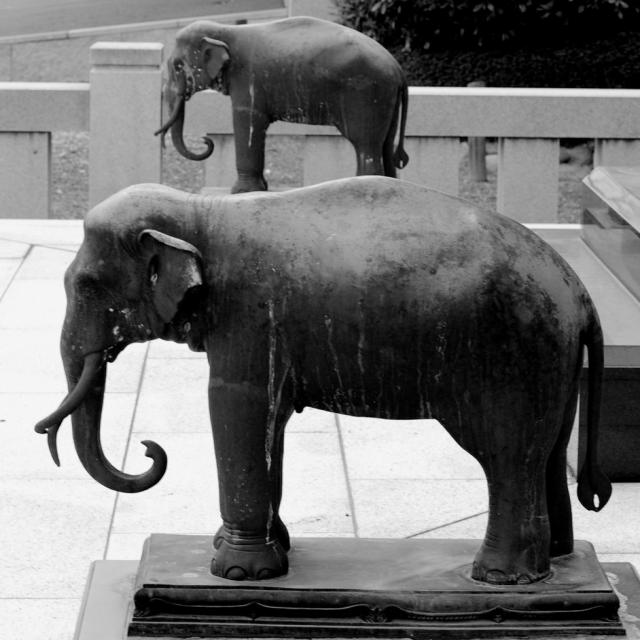elephant: (48, 167, 637, 578), (157, 15, 415, 191)
